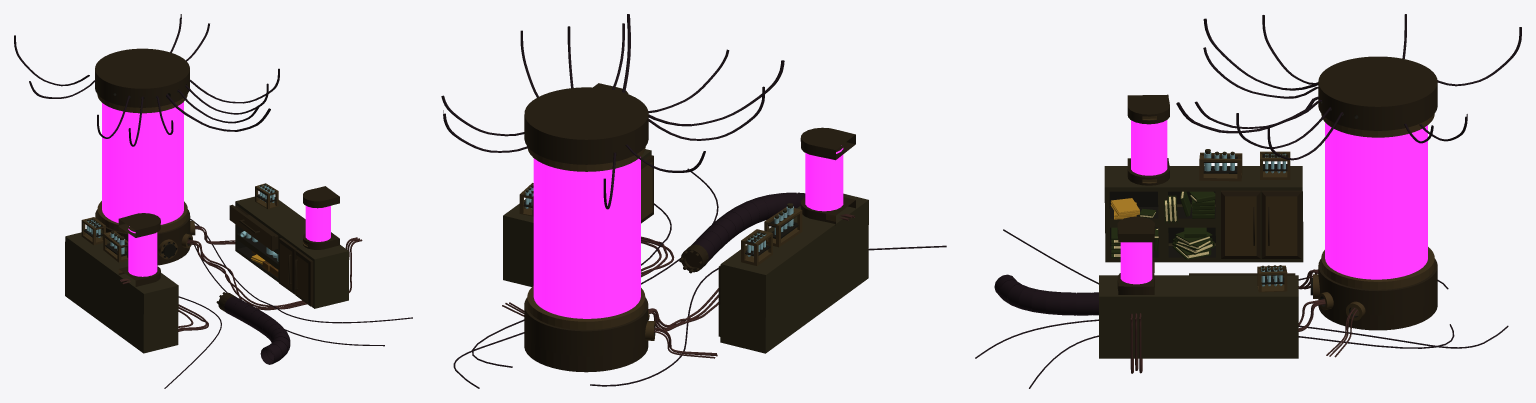
File: LabRoom.fbx
The picture shows the model from 3 angles, left to right: view 1: azimuth 30°, elevation 25°; view 2: azimuth 150°, elevation 25°; view 3: azimuth 270°, elevation 25°; orthographic projection. The views are drawn at different scales.
Parts seen in each view (by area): view 1: Tank, Desk_3, TankTop, Desk_1, Ceiling_Wires, Large_Wire_Cable, TankBottom, SmallTank_L, Wide_Drawer_1, SmallTank, Left_Drawer_002, SmallTankTop_L (+10 smaller); view 2: Tank, Desk_3, TankTop, TankBottom, Ceiling_Wires, Large_Wire_Cable, Desk_1, SmallTank_L, SmallTankTop_L, Left_Drawer_002, TestTubeHolder_3, TestTubeHolder_2 (+4 smaller); view 3: Desk_1, Tank, TankTop, Desk_3, TankBottom, Ceiling_Wires, Cupboard2_door2, Cupboard2_door, Large_Wire_Cable, SmallTank_L, SmallTank, SmallTankTop_L (+8 smaller).
Part boxes in pixels (x1,y1,x2,y2): Tank: (102,102,183,224); Desk_3: (65,229,178,353); TankTop: (95,48,189,113); Desk_1: (235,195,348,308); Ceiling_Wires: (14,14,279,146); Large_Wire_Cable: (224,296,290,364); TankBottom: (95,201,190,265); SmallTank_L: (128,225,157,276); Wide_Drawer_1: (229,204,278,250); SmallTank: (305,206,330,241); Left_Drawer_002: (295,249,313,306); SmallTankTop_L: (118,213,160,237); Tank: (533,157,640,318); Desk_3: (720,193,868,353); TankTop: (524,87,648,171); TankBottom: (524,286,648,372); Ceiling_Wires: (441,14,784,209); Large_Wire_Cable: (691,192,805,262); Desk_1: (503,149,651,286); SmallTank_L: (805,144,843,211); SmallTankTop_L: (800,127,855,160); Left_Drawer_002: (641,155,653,223); TestTubeHolder_3: (764,207,802,247); TestTubeHolder_2: (741,229,772,265); Desk_1: (1099,275,1298,358); Tank: (1325,122,1427,279); TankTop: (1318,56,1437,137); Desk_3: (1104,166,1303,262); TankBottom: (1318,247,1437,330); Ceiling_Wires: (1176,14,1521,160); Cupboard2_door2: (1261,190,1301,258); Cupboard2_door: (1221,190,1260,258); Large_Wire_Cable: (994,274,1098,315); SmallTank_L: (1131,120,1167,175); SmallTank: (1120,242,1152,284); SmallTankTop_L: (1127,94,1169,124).
Size of the model in its own units: 3.26 by 2.31 by 4.74.
